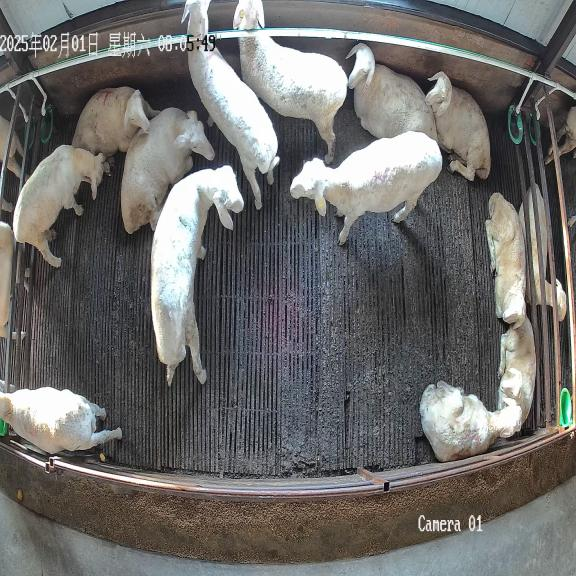lying: (121, 108, 214, 234), (347, 43, 437, 140), (420, 381, 522, 462), (425, 71, 490, 181), (72, 87, 160, 158), (485, 193, 526, 324), (498, 317, 536, 423)
stand: (182, 0, 279, 208), (233, 0, 347, 162), (290, 132, 442, 245), (13, 145, 110, 267), (0, 387, 122, 454)
